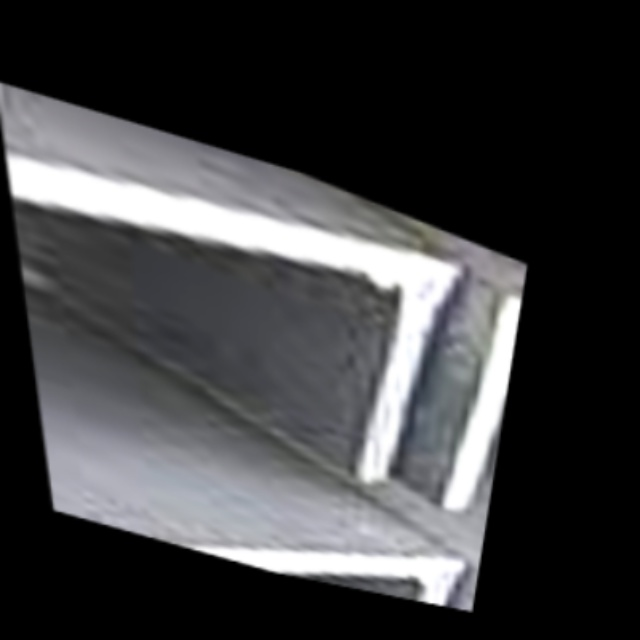Shveller: (0, 107, 440, 572), (45, 447, 454, 606)
